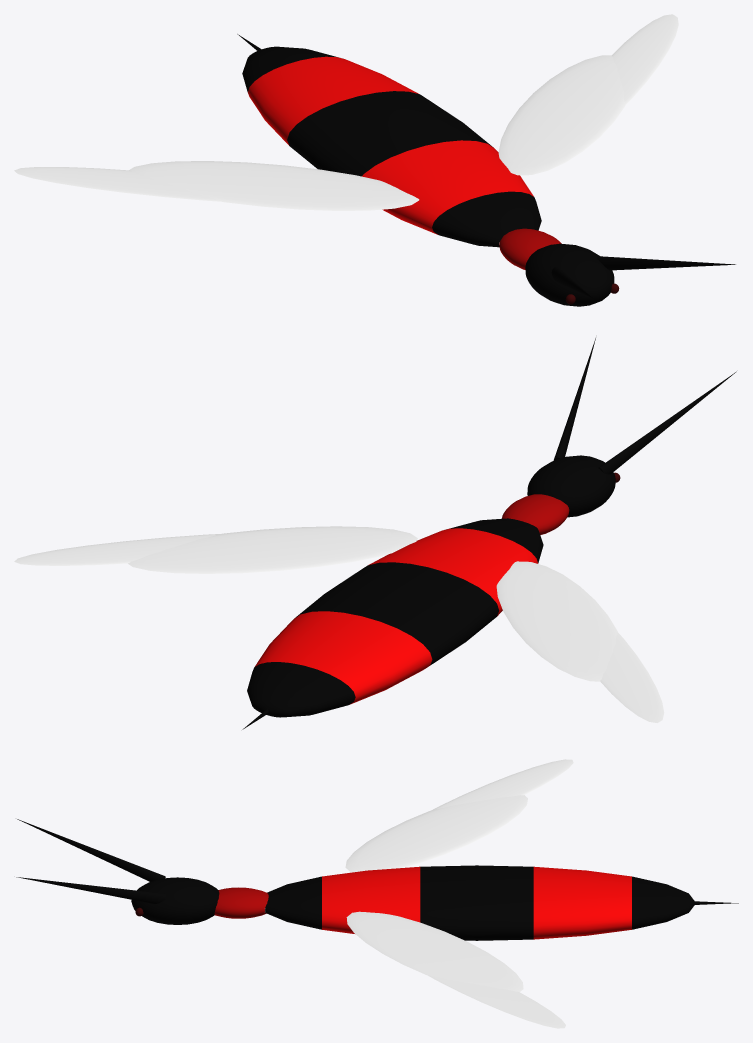
File: Squiggle.fbx
3 renders of one model, top to bottom at view 1: azimuth 30°, elevation 25°; view 2: azimuth 150°, elevation 25°; view 3: azimuth 270°, elevation 25°, orthographic. The views are drawn at different scales.
Parts seen in each view (by area): view 1: Minion1:SquiggleBody, Minion1:SquiggleWing; view 2: Minion1:SquiggleBody, Minion1:SquiggleWing; view 3: Minion1:SquiggleBody, Minion1:SquiggleWing.
Part boxes in pixels (box(x1,y1,x2,y2)): Minion1:SquiggleBody: box(237, 34, 735, 306); Minion1:SquiggleWing: box(14, 14, 678, 210); Minion1:SquiggleBody: box(242, 338, 736, 729); Minion1:SquiggleWing: box(14, 526, 664, 722); Minion1:SquiggleBody: box(16, 819, 738, 940); Minion1:SquiggleWing: box(345, 759, 573, 1028).
Size of the model in its own units: 1510 by 206 by 1719.
